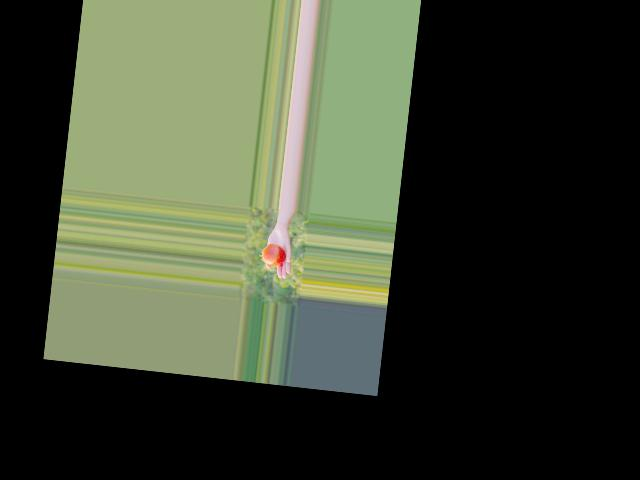tomato: (261, 243, 287, 267)
